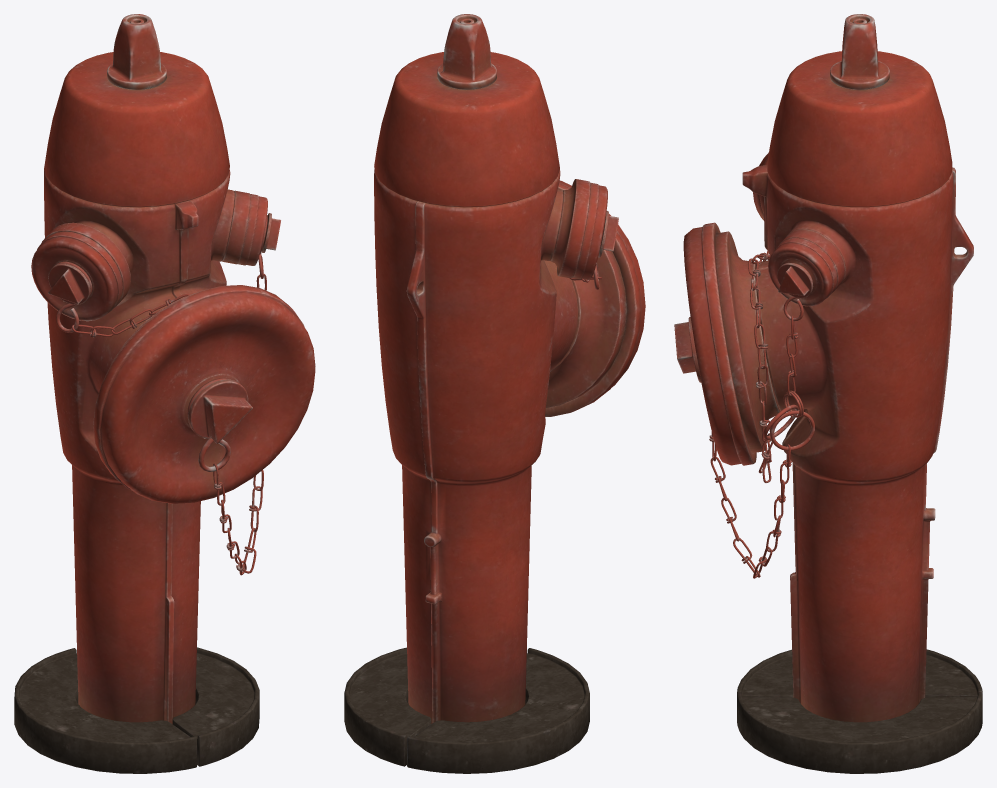
Rendered from fire-hydrant.glb.
3 views of the same model, side by side, from view 1: azimuth 30°, elevation 25°; view 2: azimuth 150°, elevation 25°; view 3: azimuth 270°, elevation 25° (orthographic).
Parts seen in each view (by area): view 1: fire_hydrant, fire_hydrant_cap_01, fire_hydrant_cap_03, fire_hydrant_chain, fire_hydrant_cap_02; view 2: fire_hydrant, fire_hydrant_cap_01, fire_hydrant_cap_03; view 3: fire_hydrant, fire_hydrant_cap_01, fire_hydrant_chain, fire_hydrant_cap_02.
Boxes of the visible parts, box(x1,y1,x2,y2) form: fire_hydrant: box(14, 14, 259, 773); fire_hydrant_cap_01: box(93, 285, 315, 503); fire_hydrant_cap_03: box(31, 231, 122, 321); fire_hydrant_chain: box(56, 215, 267, 575); fire_hydrant_cap_02: box(237, 194, 280, 265); fire_hydrant: box(344, 14, 626, 773); fire_hydrant_cap_01: box(545, 180, 645, 416); fire_hydrant_cap_03: box(573, 182, 618, 279); fire_hydrant: box(715, 14, 982, 773); fire_hydrant_cap_01: box(674, 222, 756, 465); fire_hydrant_chain: box(709, 250, 814, 578); fire_hydrant_cap_02: box(768, 238, 837, 306).
Bounding box in the file's own units: 0.2746 × 0.7995 × 0.3177.
1 material, 1 textured.
